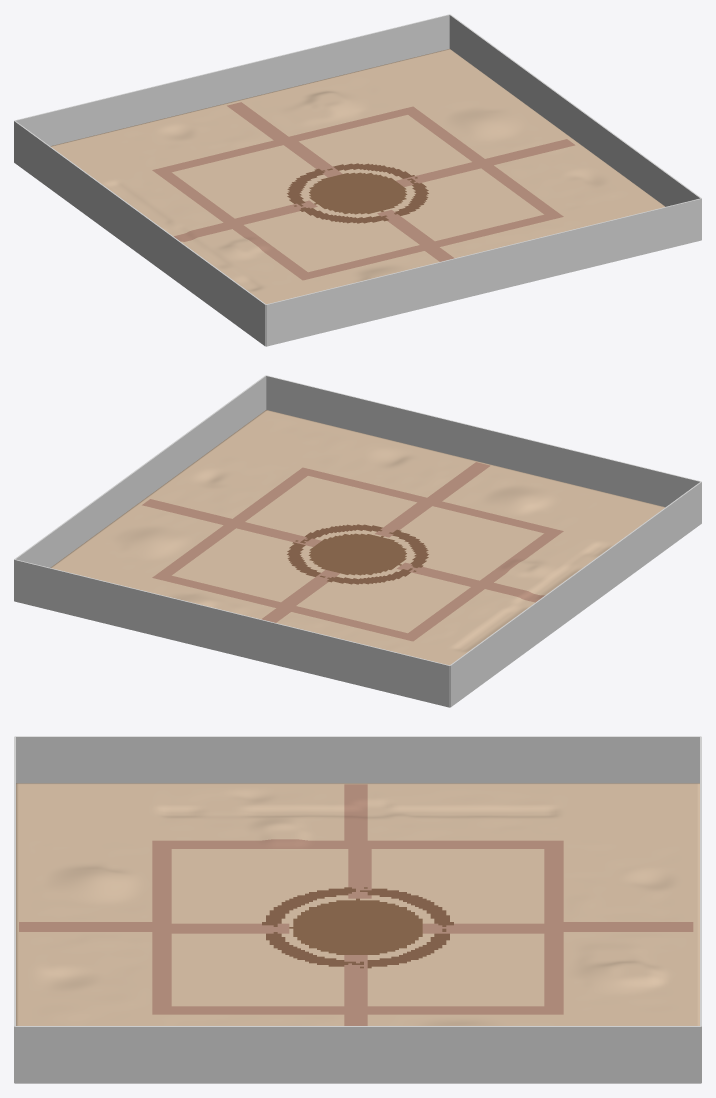
The model's file is ChocolateFactory_Ground.fbx.
3 views of the same model, one above another, from view 1: azimuth 30°, elevation 25°; view 2: azimuth 150°, elevation 25°; view 3: azimuth 270°, elevation 25° (orthographic). The views are drawn at different scales.
Parts seen in each view (by area): view 1: CHO_Terrain_Walkable, CHO_COL_Boundary_01, CHO_COL_Boundary, CHO_COL_Boundary_03, CHO_COL_Boundary_02; view 2: CHO_Terrain_Walkable, CHO_COL_Boundary, CHO_COL_Boundary_01, CHO_COL_Boundary_03, CHO_COL_Boundary_02; view 3: CHO_Terrain_Walkable, CHO_COL_Boundary_02, CHO_COL_Boundary_03, CHO_COL_Boundary, CHO_COL_Boundary_01.
Part boxes in pixels (x1,y1,x2,y2): CHO_Terrain_Walkable: (50,49,665,304); CHO_COL_Boundary_01: (266,198,701,346); CHO_COL_Boundary: (14,14,449,146); CHO_COL_Boundary_03: (14,121,265,346); CHO_COL_Boundary_02: (449,14,701,239); CHO_Terrain_Walkable: (50,410,665,665); CHO_COL_Boundary: (14,559,449,707); CHO_COL_Boundary_01: (266,375,701,507); CHO_COL_Boundary_03: (450,482,701,707); CHO_COL_Boundary_02: (14,375,266,600); CHO_Terrain_Walkable: (16,783,699,1025); CHO_COL_Boundary_02: (15,1026,700,1083); CHO_COL_Boundary_03: (15,736,700,783); CHO_COL_Boundary: (700,736,701,1083); CHO_COL_Boundary_01: (14,736,15,1083).
Size of the model in its own units: 351 by 32 by 351.
